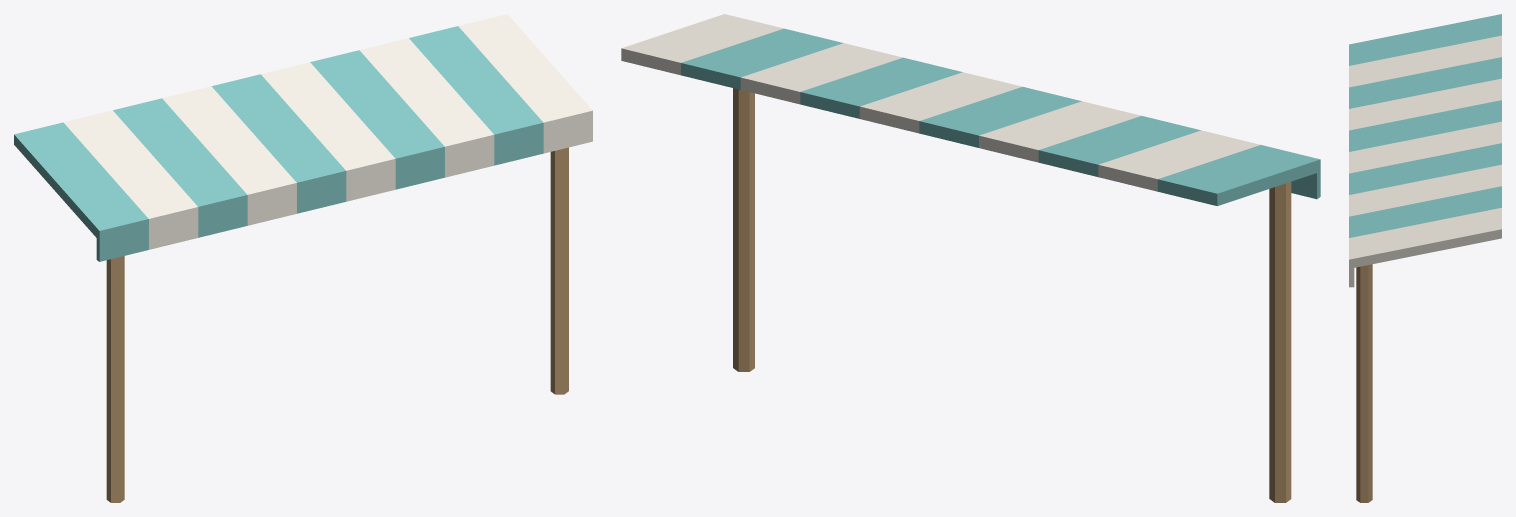
Rendered from awning_w5_0_peach.glb.
3 views of the same model, side by side, from view 1: azimuth 30°, elevation 25°; view 2: azimuth 150°, elevation 25°; view 3: azimuth 270°, elevation 25° (orthographic). The views are drawn at different scales.
Visible parts, largest first — view 1: Player; view 2: Player; view 3: Player.
Part boxes in pixels (x1,y1,x2,y2): Player: [14, 14, 592, 502]; Player: [621, 14, 1320, 502]; Player: [1349, 14, 1501, 502].
Bounding box in the file's own units: 5 × 3.05 × 1.5.
